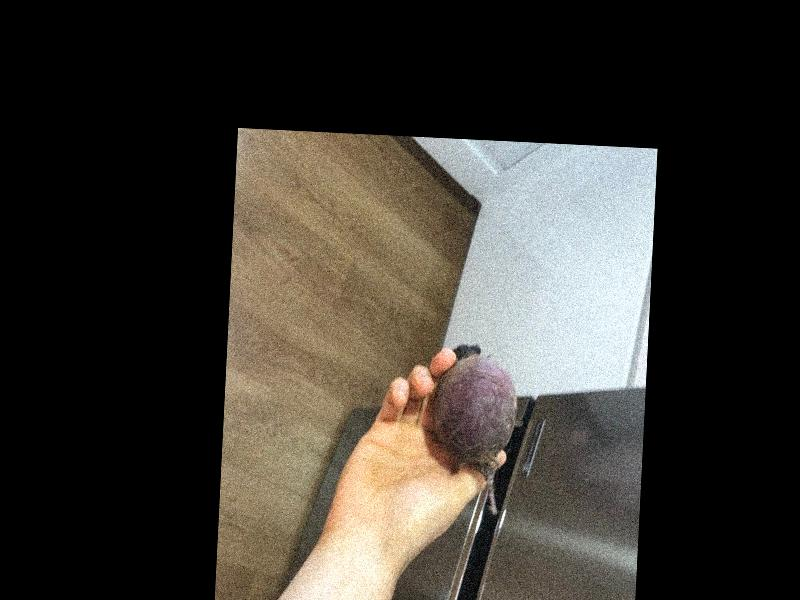Beet: (431, 341, 518, 513)
